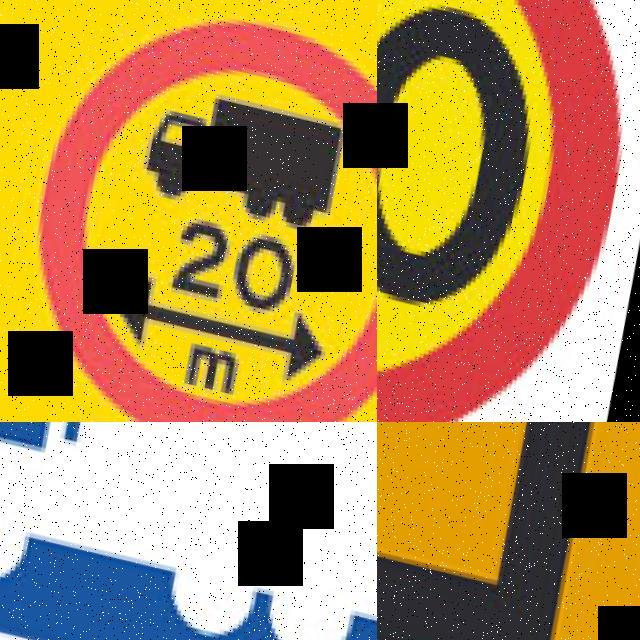22: (377, 422, 640, 640)
69: (0, 422, 377, 640)
No vehicles exceeding length shown: (0, 0, 377, 422)
speed limit-90: (377, 0, 640, 422)
